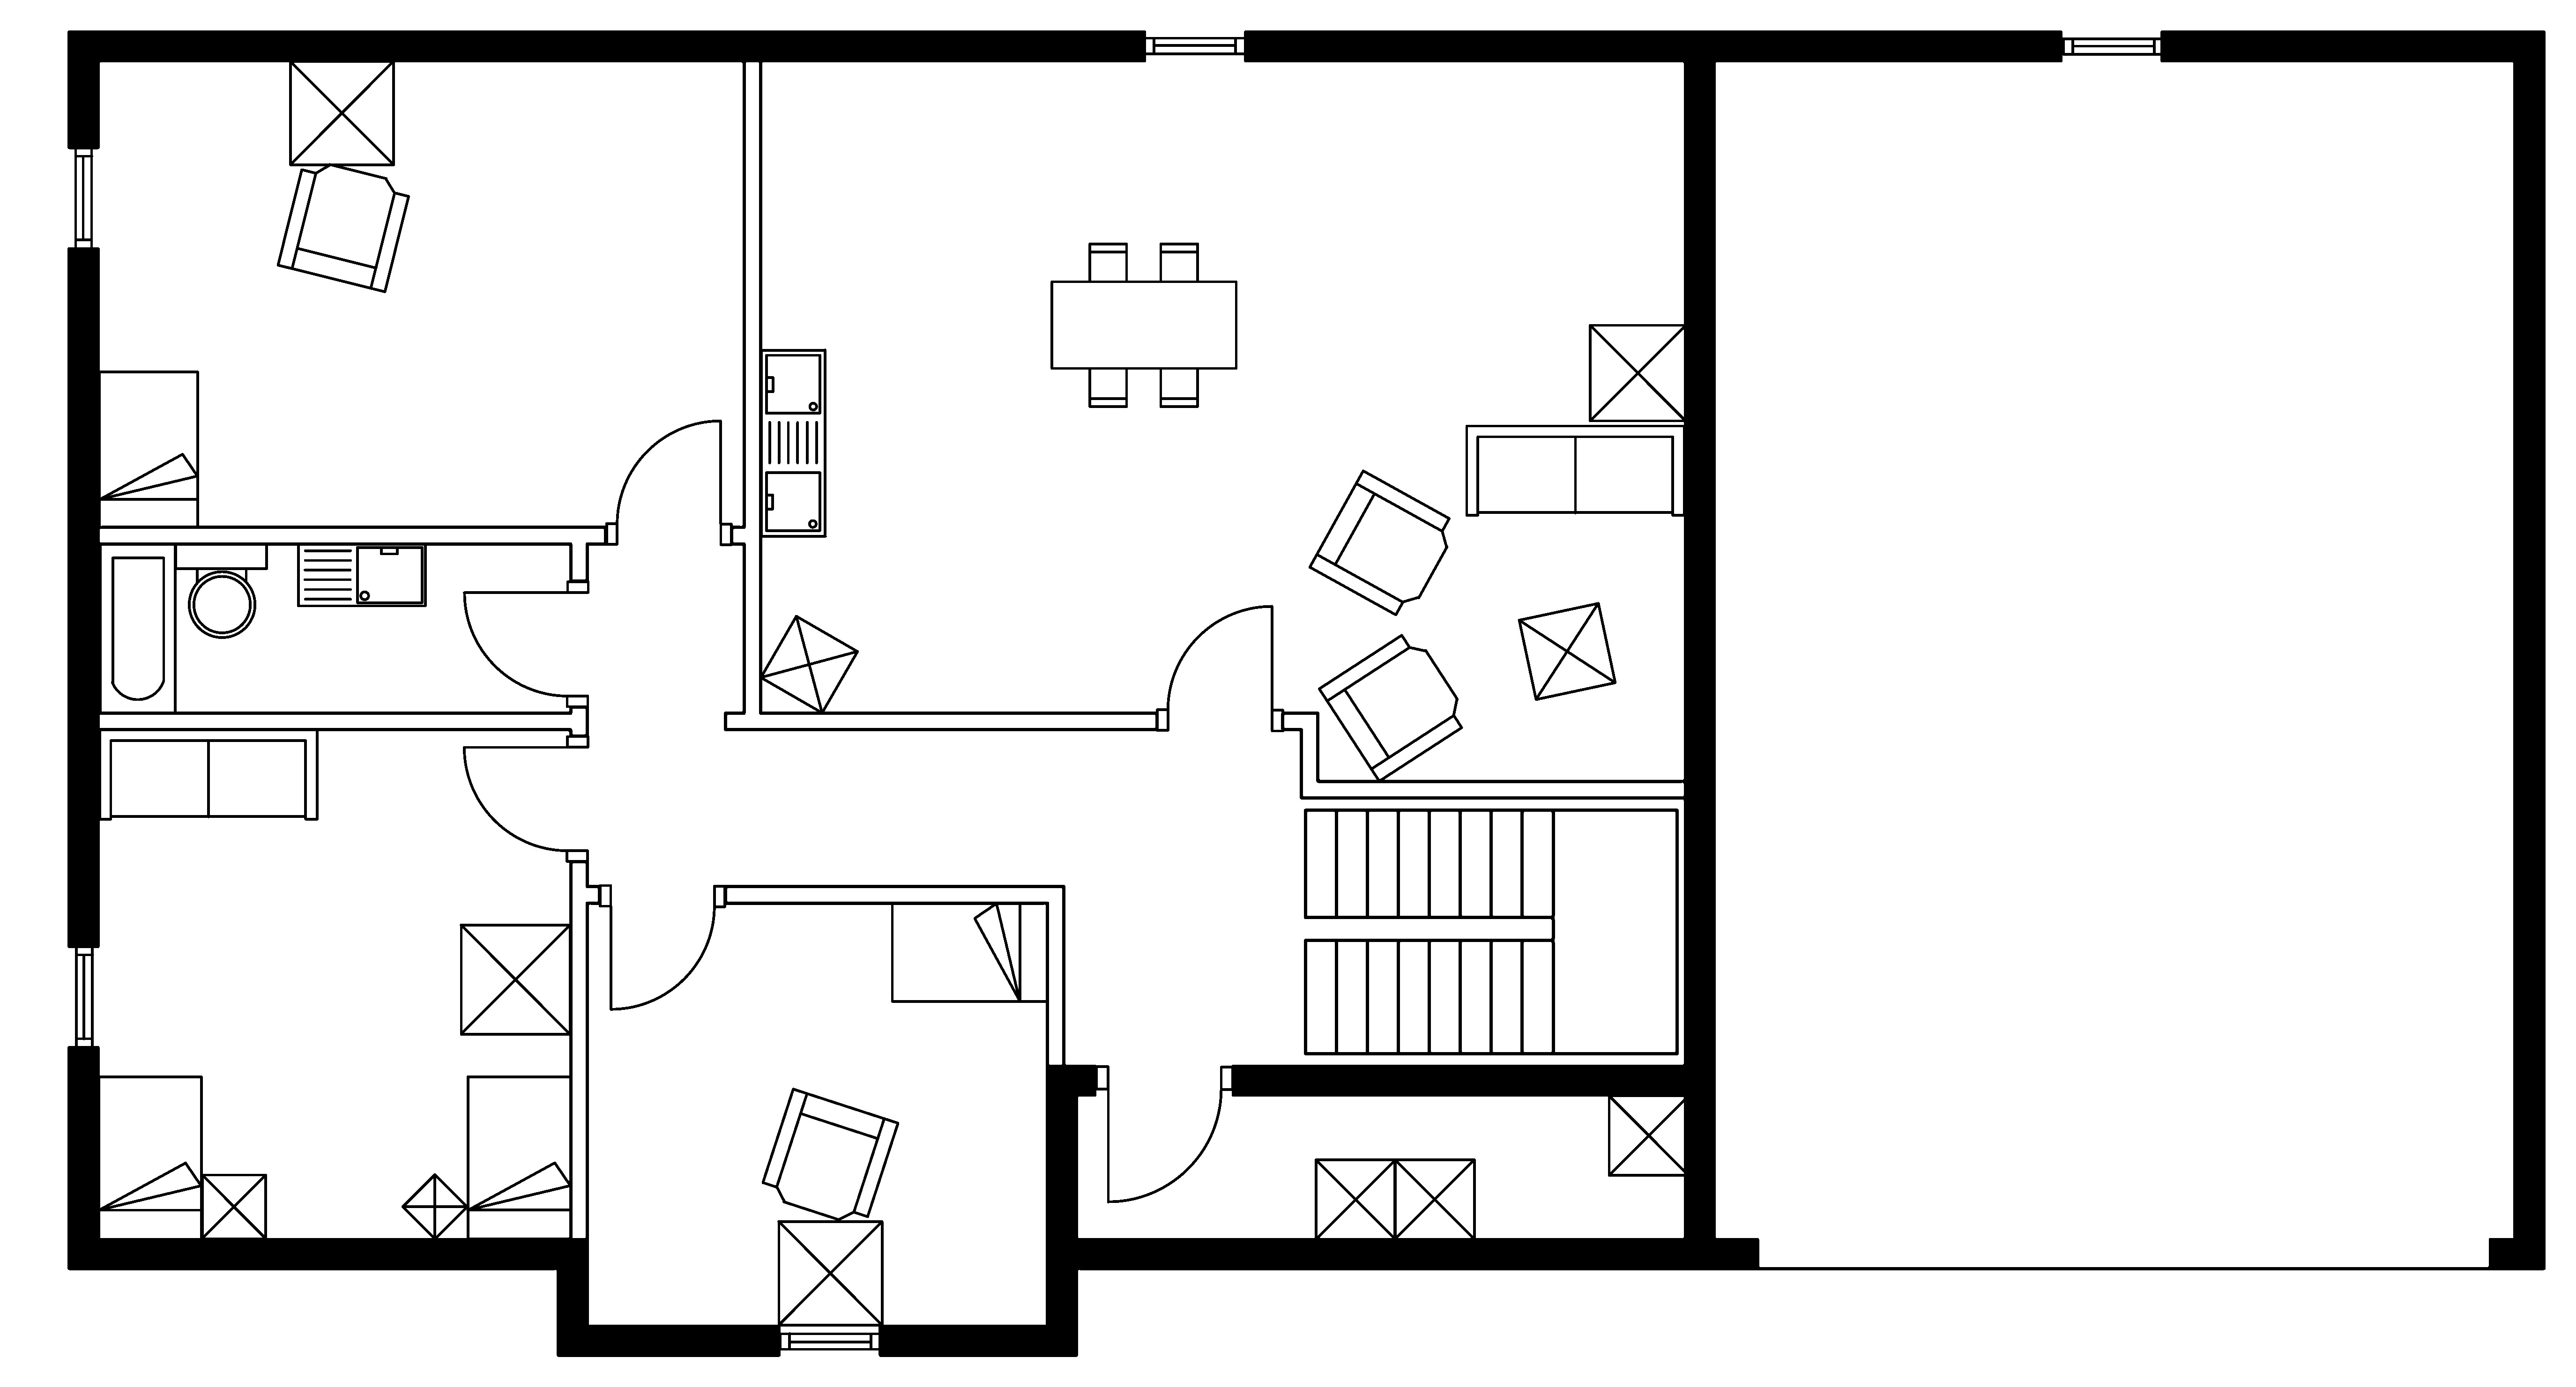armchair: (1317, 632, 1464, 782), (1307, 468, 1450, 617), (760, 1086, 900, 1221), (275, 162, 410, 294)
bed: (96, 1074, 203, 1240), (465, 1074, 572, 1240), (97, 369, 200, 530), (890, 900, 1049, 1003)
coffee_table: (458, 922, 572, 1035), (287, 58, 395, 166), (776, 1220, 883, 1327), (758, 613, 859, 714), (1517, 601, 1618, 702), (1587, 323, 1688, 422), (1607, 1093, 1691, 1177), (1314, 1156, 1397, 1240), (1392, 1156, 1476, 1240), (400, 1172, 470, 1240), (200, 1172, 268, 1240)
dining_table: (1049, 241, 1238, 408)
large_sink: (173, 541, 268, 639)
large_sofa: (1464, 424, 1686, 516), (97, 728, 319, 820)
sink: (296, 541, 427, 608)
tub: (97, 541, 178, 714)
twin_sink: (758, 347, 827, 538)
